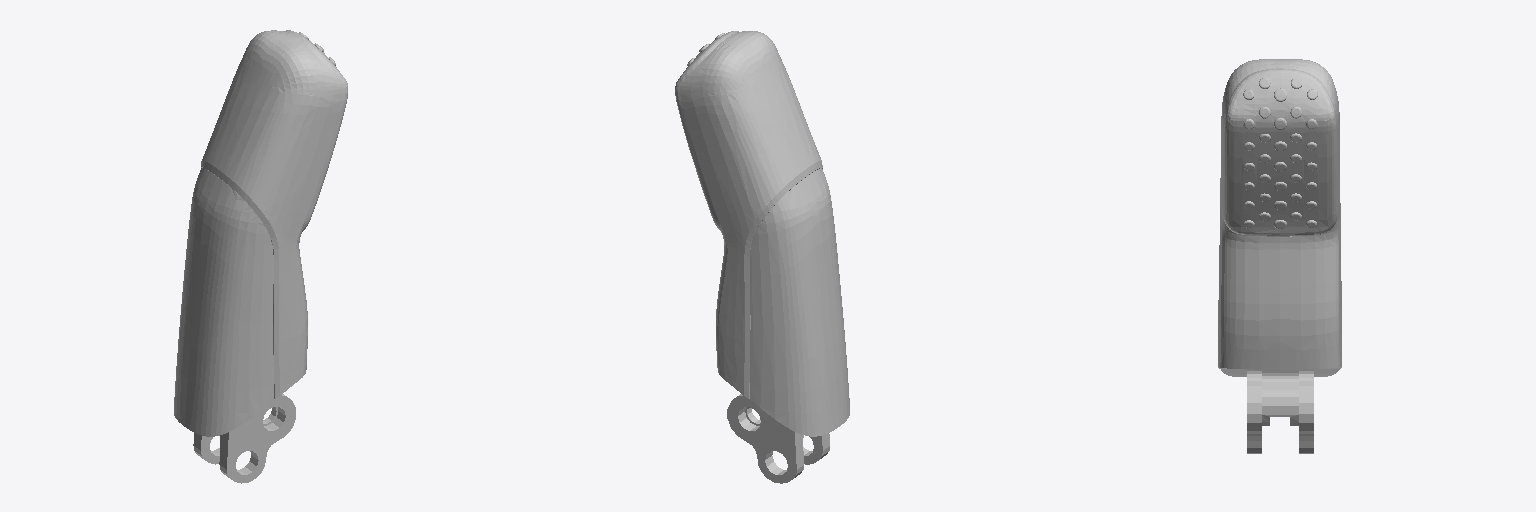
The model's file is left_ring_2_visuals.obj.
The picture shows the model from 3 angles: view 1: azimuth 30°, elevation 25°; view 2: azimuth 150°, elevation 25°; view 3: azimuth 270°, elevation 25°; orthographic projection.
Size of the model in its own units: 0.0223 by 0.0622 by 0.0168.